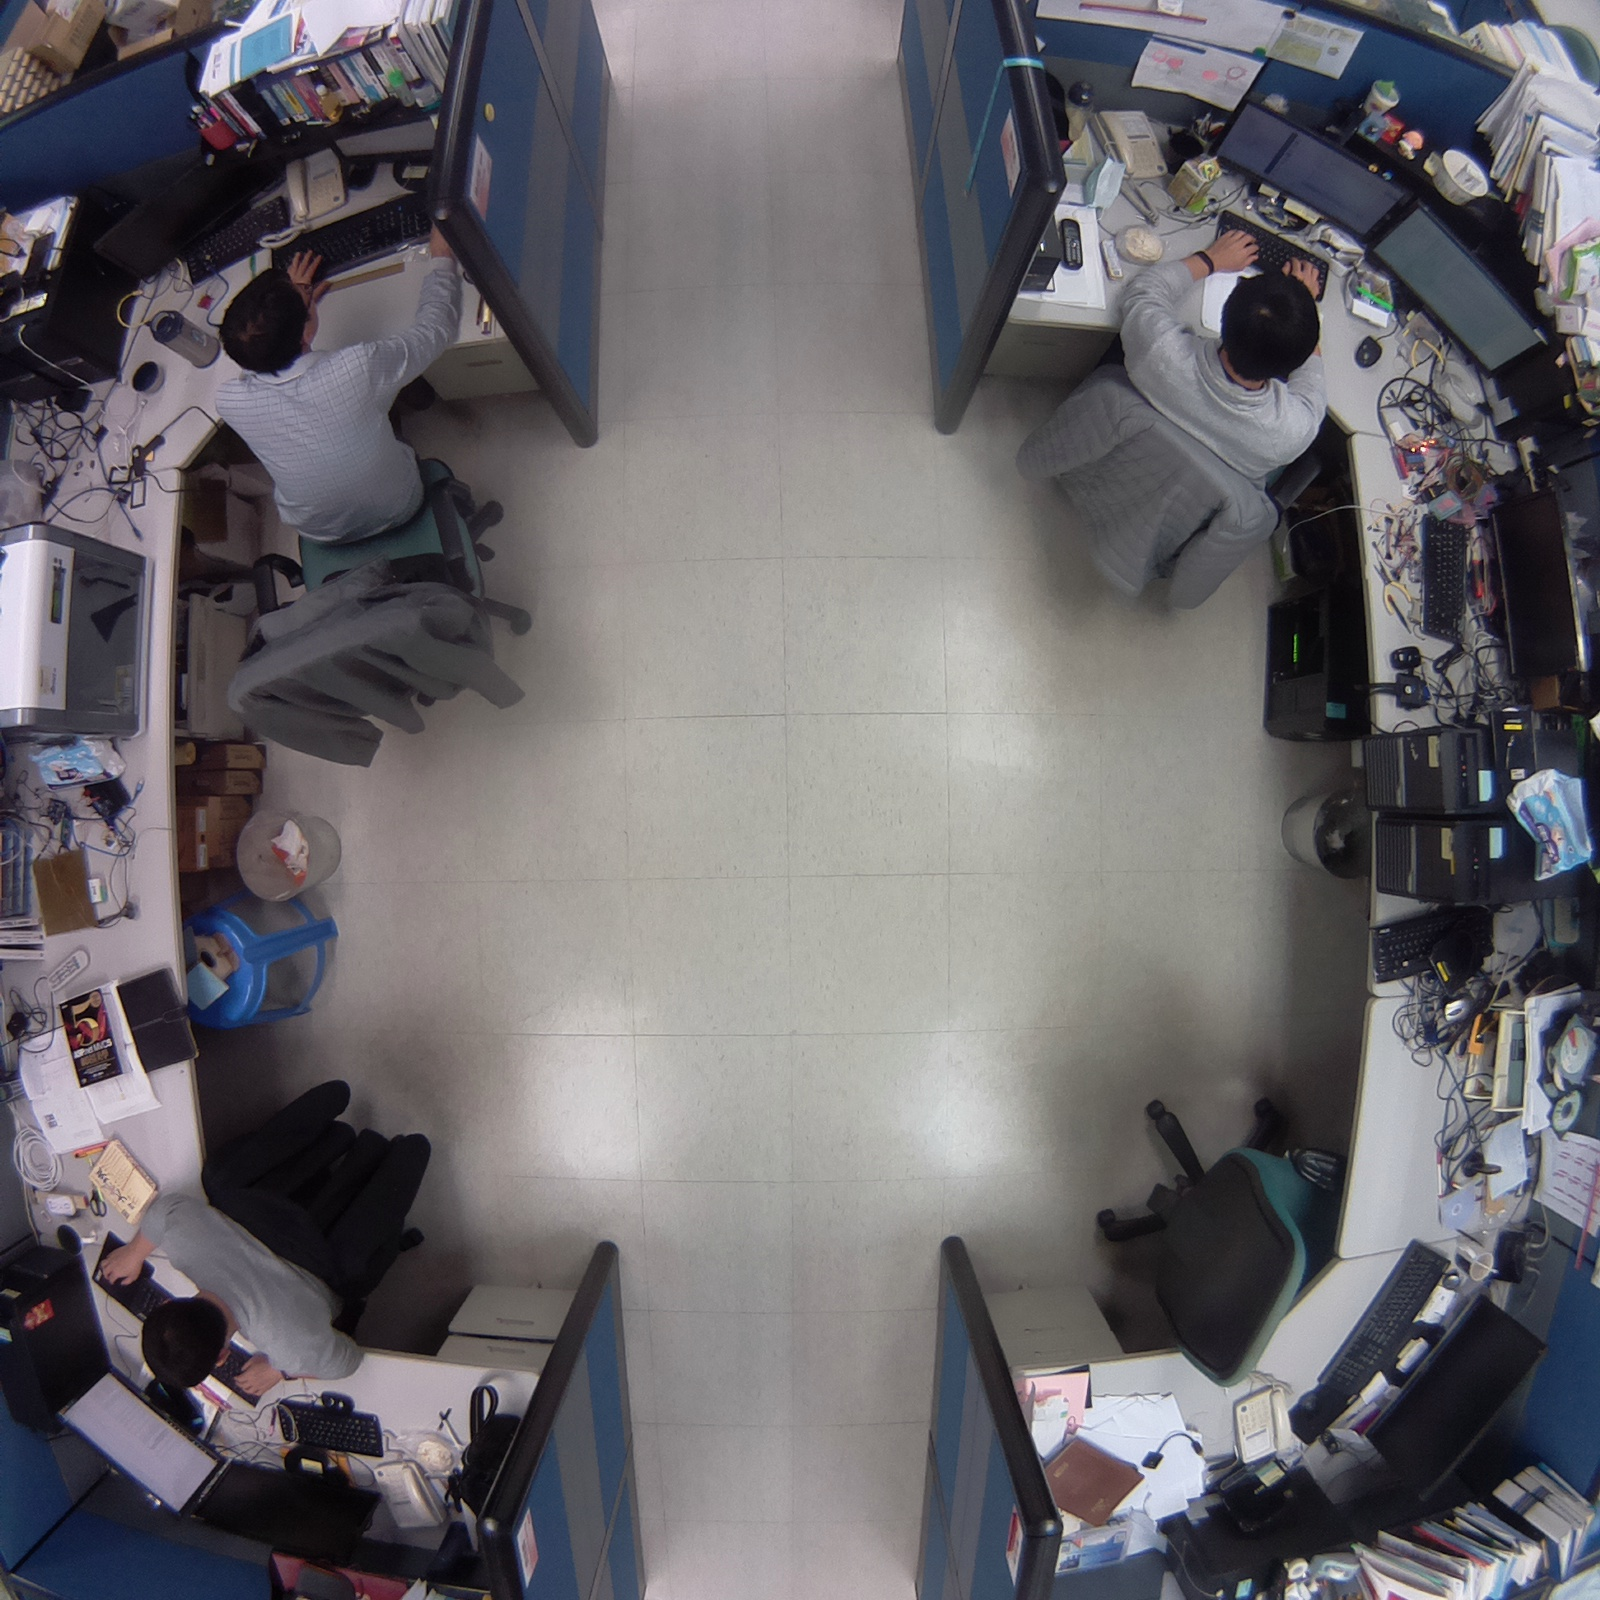chair: (1078, 1081, 1378, 1404)
head: (208, 263, 327, 372), (1217, 268, 1325, 389), (134, 1295, 227, 1395)
sitting: (204, 254, 542, 775), (1006, 217, 1350, 629), (87, 1065, 453, 1409)
